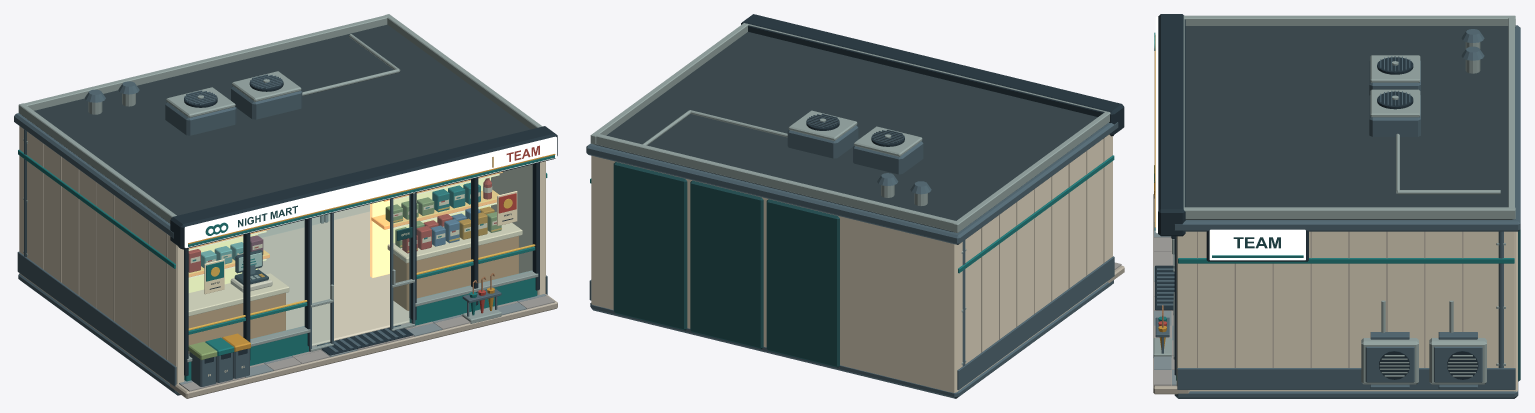
Rendered from shop-exterior.glb.
The picture shows the model from 3 angles, left to right: view 1: azimuth 30°, elevation 25°; view 2: azimuth 150°, elevation 25°; view 3: azimuth 270°, elevation 25°; orthographic projection. The views are drawn at different scales.
Parts seen in each view (by area): view 1: Night Mart / coal, Night Mart / glass, Night Mart / cream, Night Mart / slate, Night Mart / tin, Night Mart / ink, Night Mart / floor, Night Mart / teal, Night Mart / light, Night Mart / maple, Night Mart / paper, Night Mart / grout (+12 smaller); view 2: Night Mart / coal, Night Mart / cream, Night Mart / petrol, Night Mart / slate, Night Mart / tin, Night Mart / ink, Night Mart / grout, Night Mart / teal; view 3: Night Mart / coal, Night Mart / cream, Night Mart / slate, Night Mart / tin, Night Mart / ink, Night Mart / light, Night Mart / grout, Night Mart / teal, Night Mart / pave, Night Mart / petrol, Night Mart / stone, Night Mart / mustard.
Boxes of the visible parts, x1,y1,x2,y2 form: Night Mart / coal: (34, 24, 530, 215); Night Mart / glass: (189, 165, 532, 346); Night Mart / cream: (19, 126, 545, 384); Night Mart / slate: (14, 74, 547, 395); Night Mart / tin: (18, 14, 542, 362); Night Mart / ink: (170, 75, 557, 376); Night Mart / floor: (258, 204, 409, 346); Night Mart / teal: (18, 149, 554, 381); Night Mart / light: (184, 136, 556, 247); Night Mart / maple: (188, 236, 518, 353); Night Mart / paper: (188, 191, 522, 376); Night Mart / grout: (43, 143, 557, 398); Night Mart / coal: (595, 32, 1097, 232); Night Mart / cream: (591, 134, 1112, 392); Night Mart / petrol: (613, 162, 839, 367); Night Mart / slate: (586, 113, 1118, 398); Night Mart / tin: (590, 23, 1110, 364); Night Mart / ink: (741, 14, 1124, 146); Night Mart / grout: (981, 138, 1124, 352); Night Mart / teal: (590, 155, 1114, 273); Night Mart / coal: (1185, 26, 1512, 219); Night Mart / cream: (1176, 231, 1517, 391); Night Mart / slate: (1155, 25, 1520, 398); Night Mart / tin: (1153, 15, 1515, 384); Night Mart / ink: (1154, 14, 1478, 379); Night Mart / light: (1153, 16, 1305, 260); Night Mart / grout: (1153, 194, 1463, 394); Night Mart / teal: (1154, 32, 1514, 380); Night Mart / pave: (1154, 195, 1174, 385); Night Mart / petrol: (1233, 229, 1520, 381); Night Mart / stone: (1154, 222, 1176, 385); Night Mart / mustard: (1154, 35, 1166, 349).
Size of the model in its own units: 7.46 by 3.6 by 5.72.
